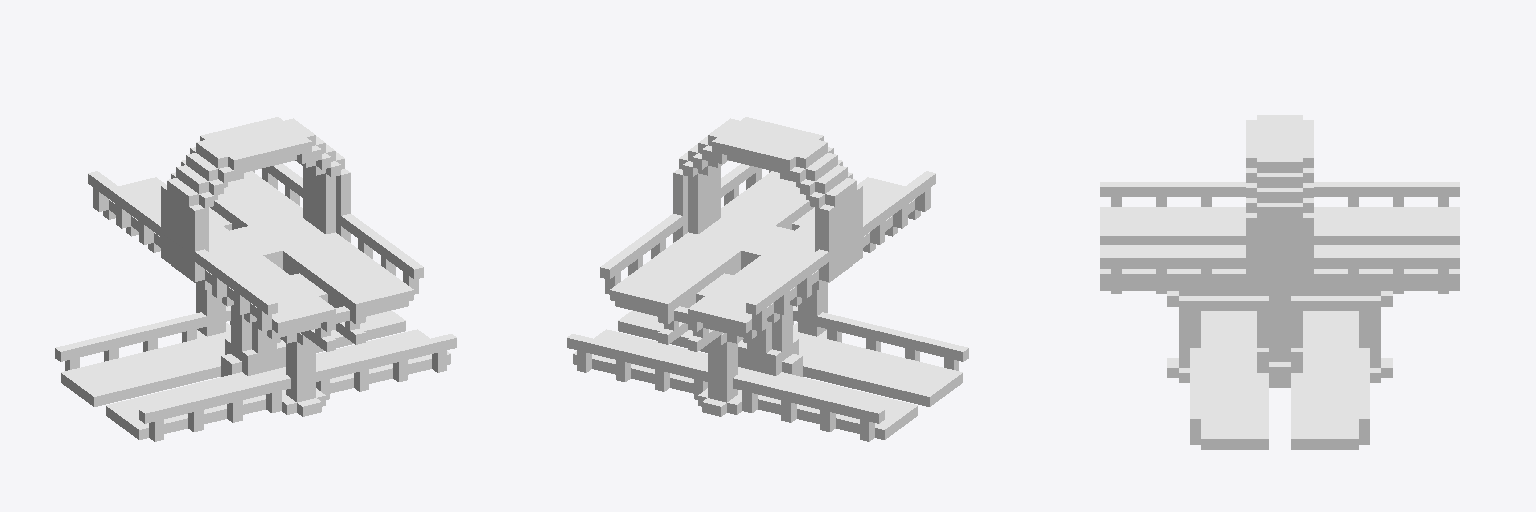
The model's file is roadAndBridge2.obj.
3 renders of one model, left to right at view 1: azimuth 30°, elevation 25°; view 2: azimuth 150°, elevation 25°; view 3: azimuth 270°, elevation 25°, orthographic.
Visible parts, largest first — view 1: object 1; view 2: object 1; view 3: object 1.
Boxes of the visible parts, box(x1,y1,x2,y2) form: object 1: box(55, 117, 456, 441); object 1: box(567, 117, 968, 441); object 1: box(1100, 115, 1459, 449).
Bounding box in the file's own units: 3.2 × 2.3 × 3.2.